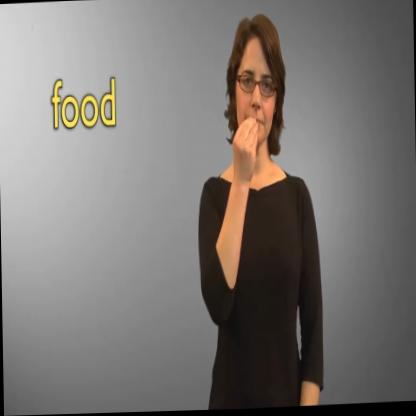Food: (223, 0, 301, 262)
